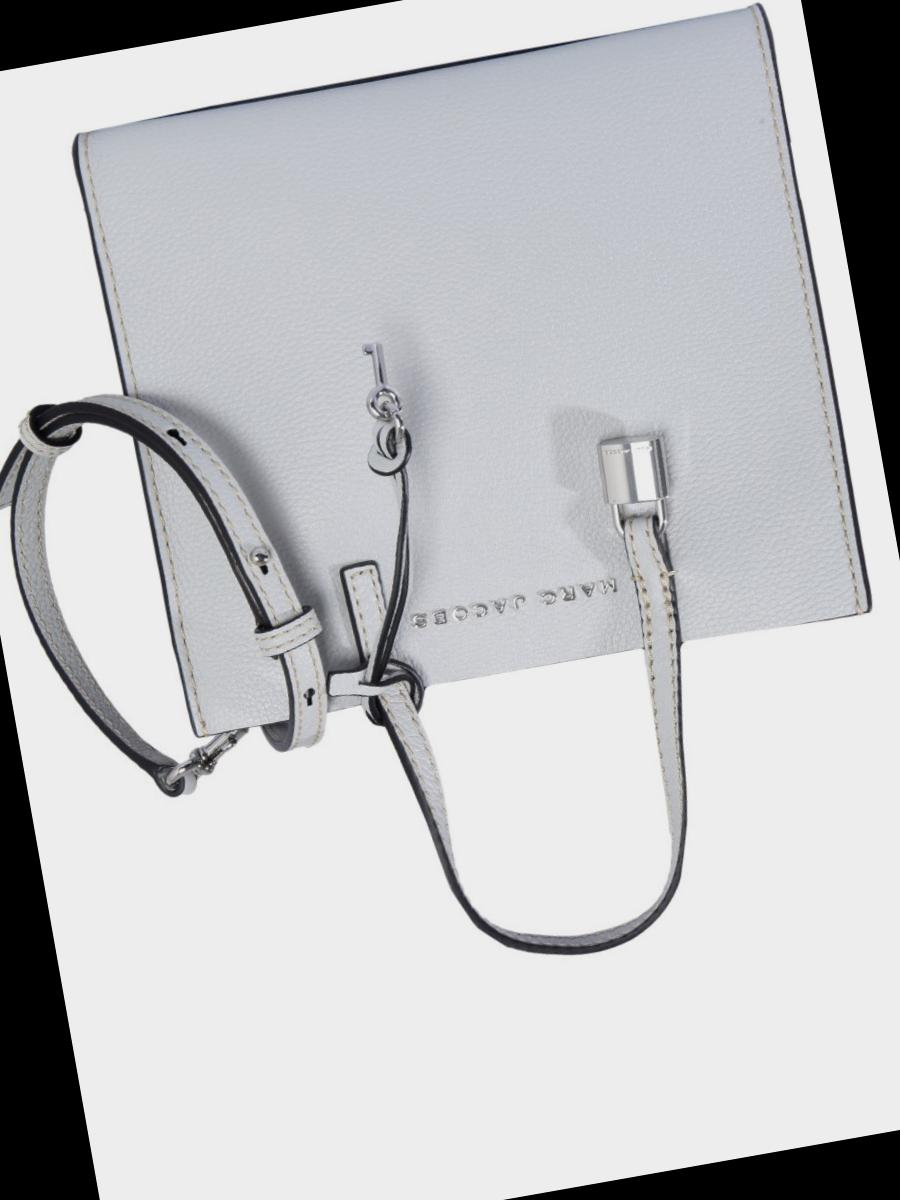MARC-JACOBS: (410, 577, 617, 629)
